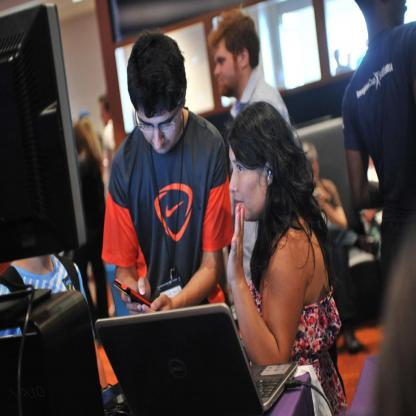board: (96, 299, 298, 416)
